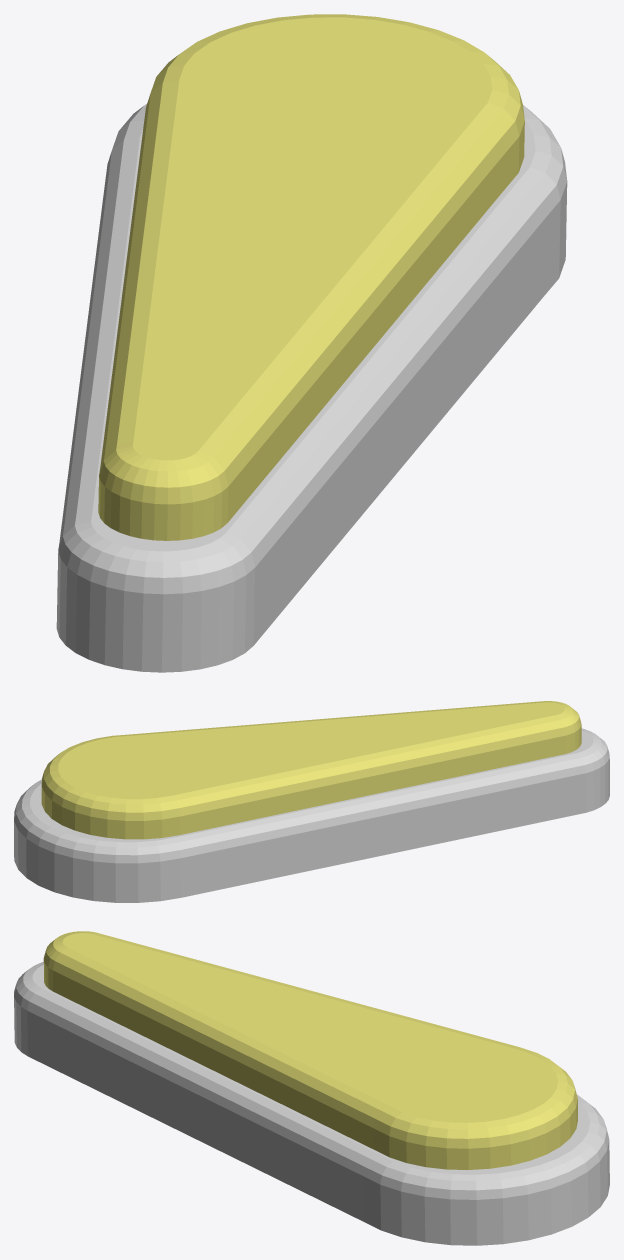
Rendered from Flipper.fbx.
The picture shows the model from 3 angles, top to bottom: view 1: azimuth 30°, elevation 25°; view 2: azimuth 150°, elevation 25°; view 3: azimuth 270°, elevation 25°; orthographic projection. The views are drawn at different scales.
Visible parts, largest first — view 1: Flipper.001; view 2: Flipper.001; view 3: Flipper.001.
Part boxes in pixels (left/top/right/bottom): Flipper.001: left=56, top=14, right=567, bottom=672; Flipper.001: left=14, top=701, right=609, bottom=902; Flipper.001: left=14, top=931, right=609, bottom=1245.
Bounding box in the file's own units: 49.09 × 10.49 × 53.51.
